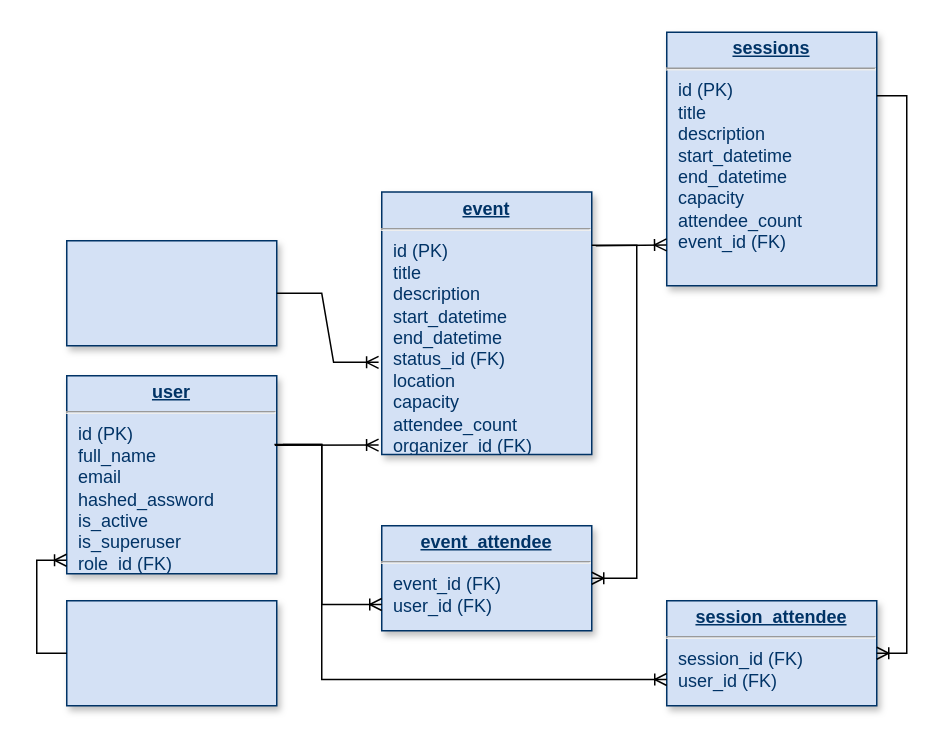
This 945x743 diagram has some shape labels left out. Here are the shapes that lost their labels. From the top down, the centre of each, then its label:
At point 172,294: "status id (PK) status".
At point 172,654: "role id (PK) role".
